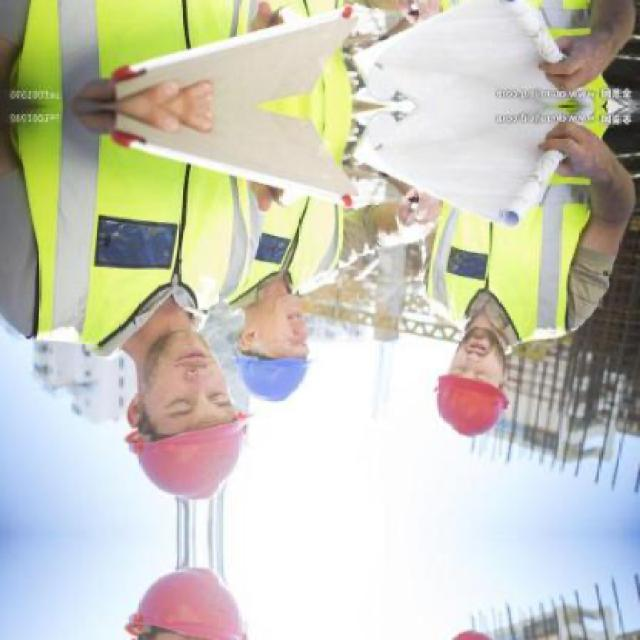con casco: (106, 317, 266, 499), (228, 293, 347, 410), (435, 344, 518, 445)
